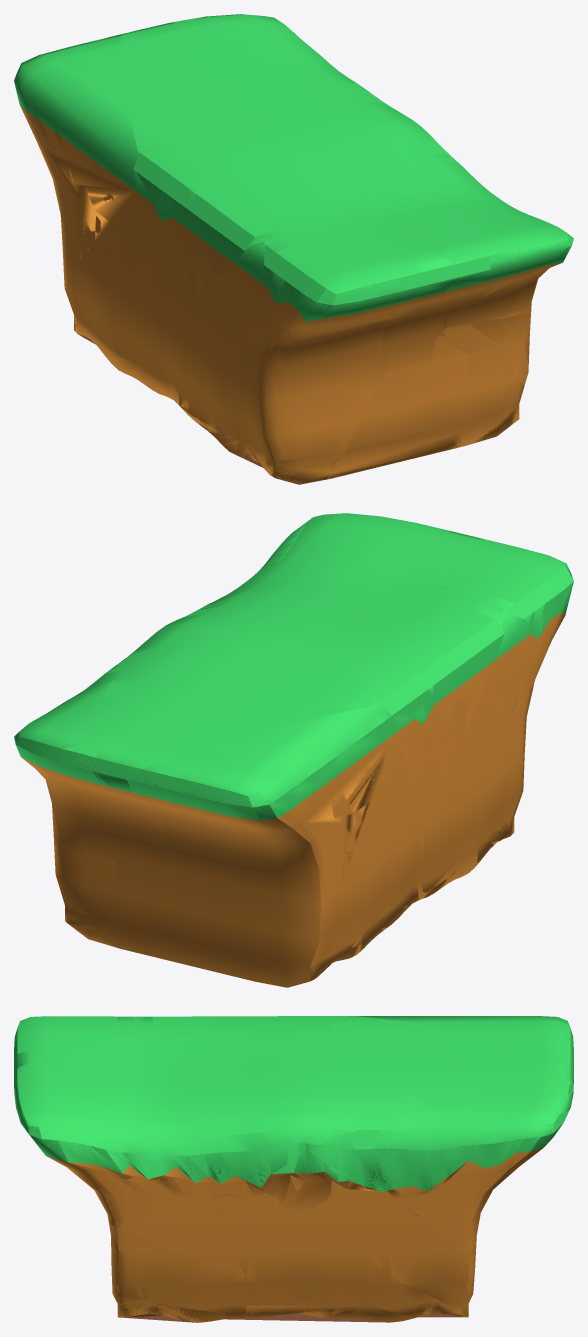
File: Smash02 NEW PLATFORM03.fbx
The picture shows the model from 3 angles, top to bottom: view 1: azimuth 30°, elevation 25°; view 2: azimuth 150°, elevation 25°; view 3: azimuth 270°, elevation 25°; orthographic projection. The views are drawn at different scales.
Parts seen in each view (by area): view 1: Cube, Cube_cell.002, Cube_cell.005, Cube_cell.010, Cube_cell.008, Cube_cell.009, Cube_cell.006, Cube_cell.003, Cube_cell, Cube_cell.007, Cube_cell.011; view 2: Cube, Cube_cell.002, Cube_cell.010, Cube_cell.005, Cube_cell.003, Cube_cell, Cube_cell.001, Cube_cell.009; view 3: Cube, Cube_cell.010, Cube_cell, Cube_cell.007, Cube_cell.004, Cube_cell.011, Cube_cell.001, Cube_cell.002, Cube_cell.008, Cube_cell.003, Cube_cell.009, Cube_cell.006.
Boxes of the visible parts, <box> form: Cube: <box>22,16,573,480</box>; Cube_cell.002: <box>14,34,179,405</box>; Cube_cell.005: <box>166,242,387,484</box>; Cube_cell.010: <box>121,22,421,154</box>; Cube_cell.008: <box>328,337,524,479</box>; Cube_cell.009: <box>264,230,458,333</box>; Cube_cell.006: <box>341,153,569,369</box>; Cube_cell.003: <box>133,150,349,339</box>; Cube_cell: <box>181,14,379,99</box>; Cube_cell.007: <box>429,152,571,331</box>; Cube_cell.011: <box>438,319,529,380</box>; Cube: <box>15,513,573,987</box>; Cube_cell.002: <box>131,704,424,980</box>; Cube_cell.010: <box>91,624,380,814</box>; Cube_cell.005: <box>420,610,547,898</box>; Cube_cell.003: <box>323,585,501,841</box>; Cube_cell: <box>14,658,167,867</box>; Cube_cell.001: <box>54,838,180,945</box>; Cube_cell.009: <box>437,531,572,644</box>; Cube: <box>14,1016,573,1322</box>; Cube_cell.010: <box>276,1016,573,1148</box>; Cube_cell: <box>308,1086,573,1250</box>; Cube_cell.007: <box>28,1116,299,1275</box>; Cube_cell.004: <box>246,1250,464,1322</box>; Cube_cell.011: <box>108,1220,246,1322</box>; Cube_cell.001: <box>282,1149,476,1316</box>; Cube_cell.002: <box>357,1016,573,1075</box>; Cube_cell.008: <box>111,1258,169,1317</box>; Cube_cell.003: <box>121,1016,293,1054</box>; Cube_cell.009: <box>17,1016,134,1067</box>; Cube_cell.006: <box>14,1048,239,1132</box>.
Size of the model in its own units: 145 by 122 by 291.
